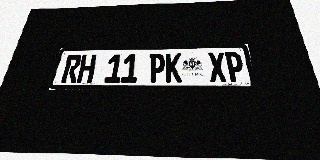1: (104, 54, 123, 83), (120, 54, 139, 83)
H: (76, 54, 97, 83)
K: (165, 53, 182, 83)
P: (224, 52, 246, 82), (148, 53, 165, 83)
R: (61, 55, 82, 83)
X: (207, 52, 227, 82)
